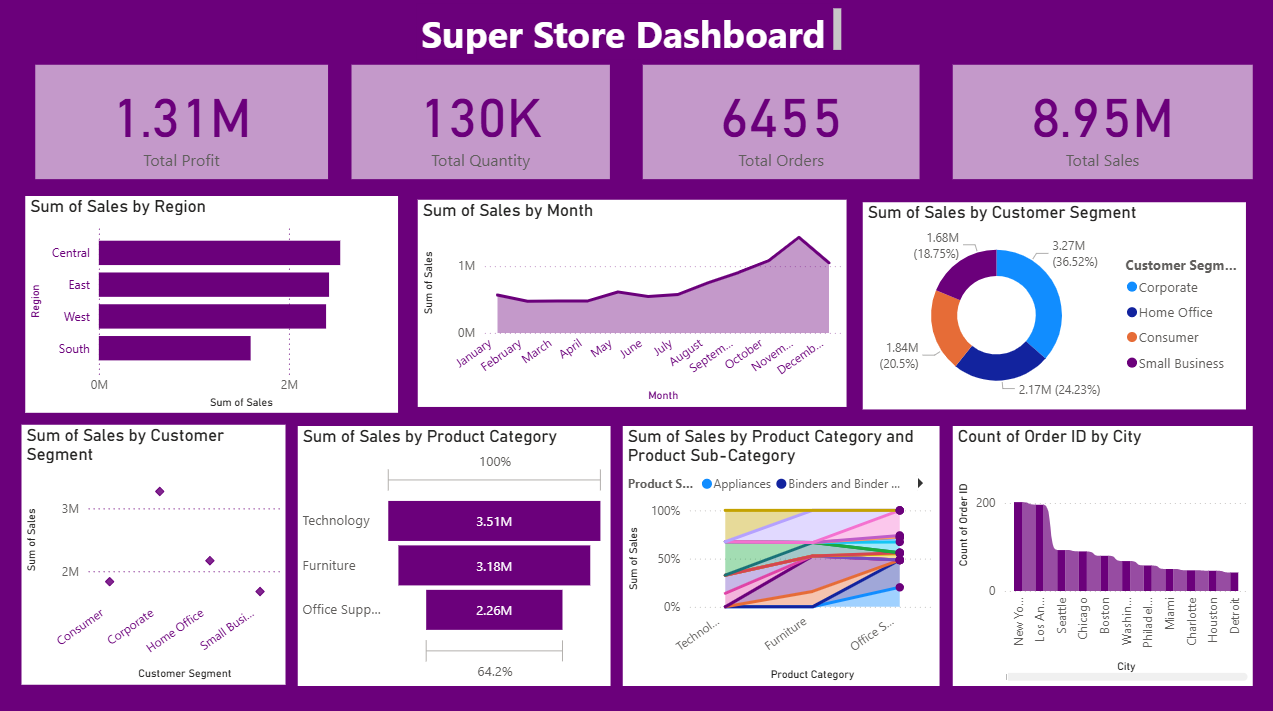

The page's visual inventory and layout, read from the dashboard file:
{"tool":"powerbi","page":{"name":"Page 1","canvas":[1280,720],"ordinal":0},"visuals":[{"type":"card","fields":{"Values":["Orders.Total Profit"]},"box":[35.7,68.6,292.9,114.3],"z":0},{"type":"card","fields":{"Values":["Orders.Total Quantity"]},"box":[352.9,68.6,258.6,114.3],"z":1000},{"type":"card","fields":{"Values":["Orders.Total Orders"]},"box":[644.3,68.6,277.1,114.3],"z":2000},{"type":"card","fields":{"Values":["Orders.Total Sales"]},"box":[954.3,68.6,300,114.3],"z":3000},{"type":"clusteredBarChart","fields":{"Category":["Orders.Region"],"Y":["Sum(Orders.Sales)"]},"box":[25.7,200,372.9,217.1],"z":4000},{"type":"areaChart","fields":{"Category":["Orders.Order Date.Variation.Date Hierarchy.Year","Orders.Order Date.Variation.Date Hierarchy.Quarter","Orders.Order Date.Variation.Date Hierarchy.Month","Orders.Order Date.Variation.Date Hierarchy.Day"],"Y":["Sum(Orders.Sales)"]},"box":[418.6,204.3,428.6,207.1],"z":5000},{"type":"donutChart","fields":{"Category":["Orders.Customer Segment"],"Y":["Sum(Orders.Sales)"]},"box":[864.3,205.7,382.9,207.1],"z":6000},{"type":"scatterChart","fields":{"Y":["Sum(Orders.Sales)"],"X":["Orders.Customer Segment"]},"box":[22.9,428.6,264.3,260],"z":7000},{"type":"funnel","fields":{"Category":["Orders.Product Category"],"Y":["Sum(Orders.Sales)"]},"box":[298.6,430,312.9,260],"z":8000},{"type":"hundredPercentStackedAreaChart","fields":{"Category":["Orders.Product Category"],"Series":["Orders.Product Sub-Category"],"Y":["Sum(Orders.Sales)"]},"box":[624.3,430,317.1,260],"z":9000},{"type":"ribbonChart","fields":{"Category":["Orders.City"],"Y":["CountNonNull(Orders.Order ID)"]},"box":[954.3,430,300,260],"z":10000},{"type":"textbox","box":[417.1,7.1,430,55.7],"z":11000}]}

Visuals, with their boxes in screenshot pixels (x1, y1, x2, y2), scaled from the page's 1280x720 canvas onto the 1273x711 screenshot:
card - Orders.Total Profit: 36:68:327:181
card - Orders.Total Quantity: 351:68:608:181
card - Orders.Total Orders: 641:68:916:181
card - Orders.Total Sales: 949:68:1247:181
clusteredBarChart - Orders.Region x Sum(Orders.Sales): 26:198:396:412
areaChart - Orders.Order Date.Variation.Date Hierarchy.Year x Orders.Order Date.Variation.Date Hierarchy.Quarter: 416:202:843:406
donutChart - Orders.Customer Segment x Sum(Orders.Sales): 860:203:1240:408
scatterChart - Sum(Orders.Sales) x Orders.Customer Segment: 23:423:286:680
funnel - Orders.Product Category x Sum(Orders.Sales): 297:425:608:681
hundredPercentStackedAreaChart - Orders.Product Category x Orders.Product Sub-Category: 621:425:936:681
ribbonChart - Orders.City x CountNonNull(Orders.Order ID): 949:425:1247:681
textbox: 415:7:842:62
